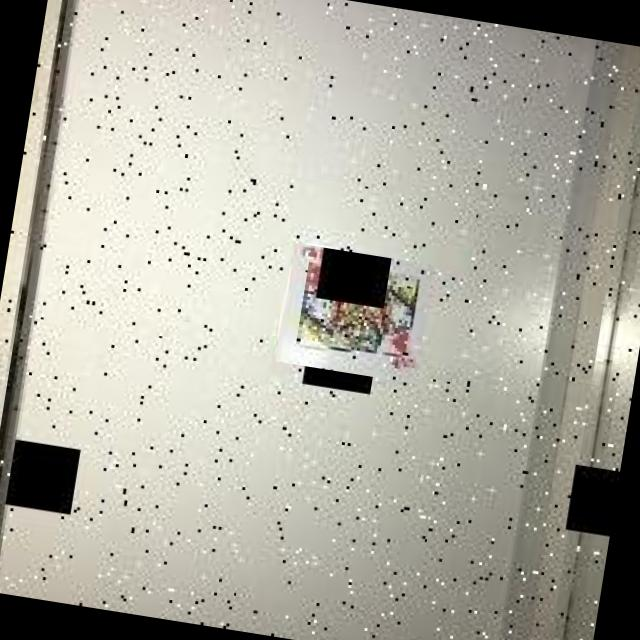Queen of hearts: (274, 243, 433, 384)
